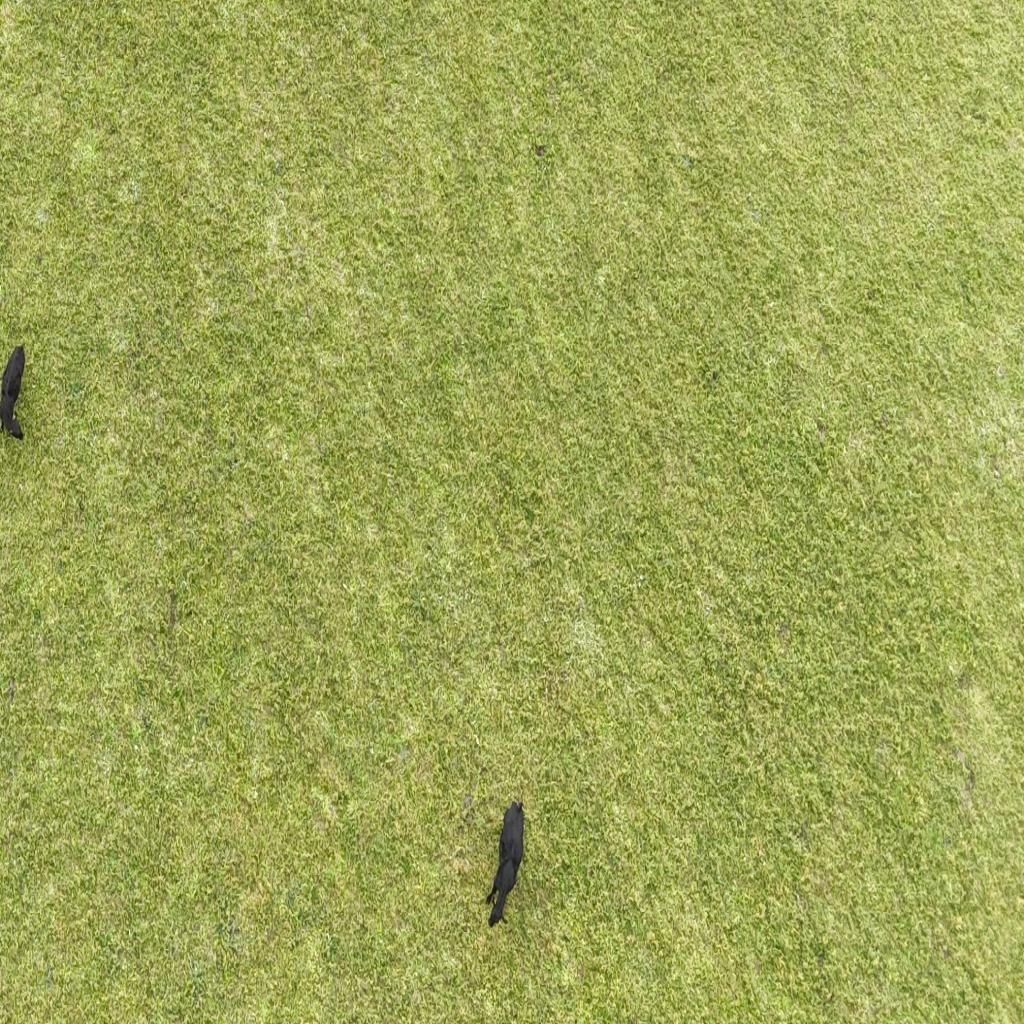cow: (485, 798, 526, 932), (0, 342, 29, 442)
